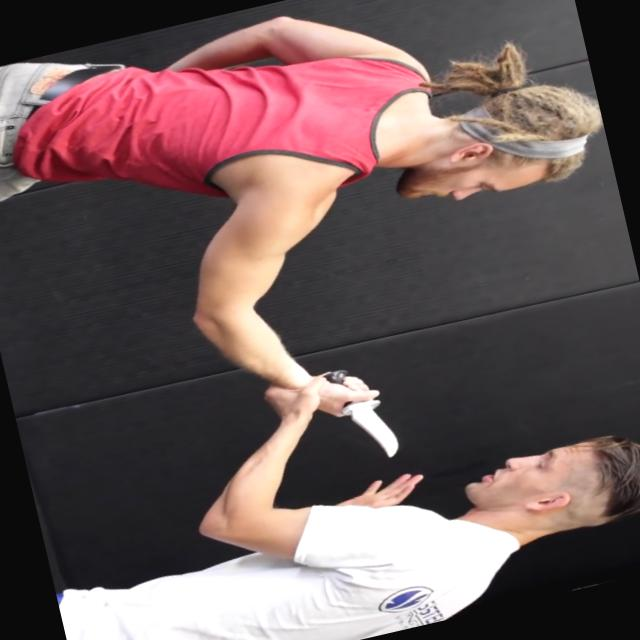knife: (318, 352, 418, 474)
